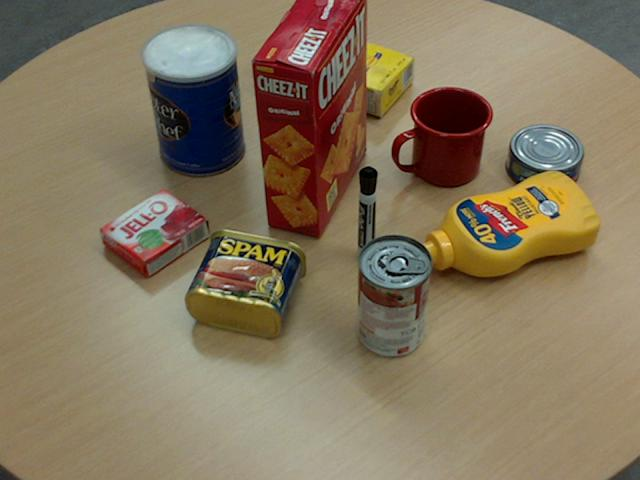cracker_box: (250, 0, 367, 237)
gelatin_box: (99, 187, 208, 276)
large_marker: (358, 166, 377, 260)
master_chef_can: (142, 24, 244, 176)
mug: (392, 85, 492, 186)
mustard_bottle: (412, 170, 598, 276)
potted_meat_can: (184, 227, 306, 336)
sugar_box: (261, 20, 414, 116)
tomato_soup_can: (356, 233, 431, 356)
tuna_fish_can: (505, 124, 582, 191)
